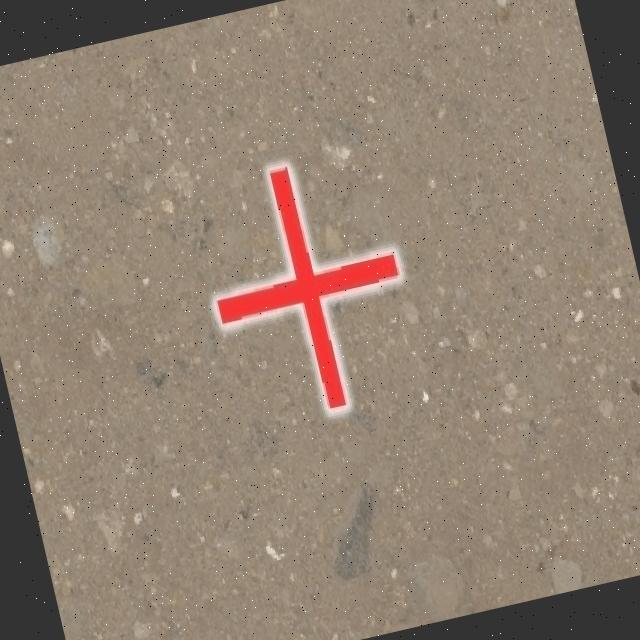x_marker: (188, 146, 425, 429)
